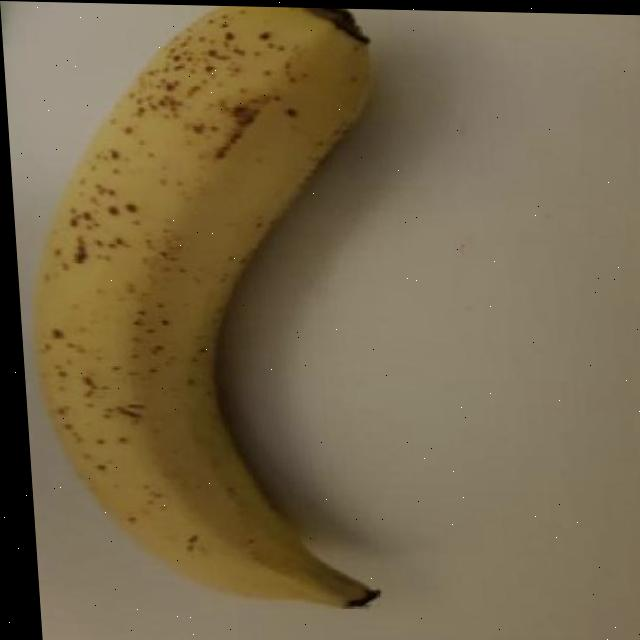banana: (8, 3, 410, 611)
